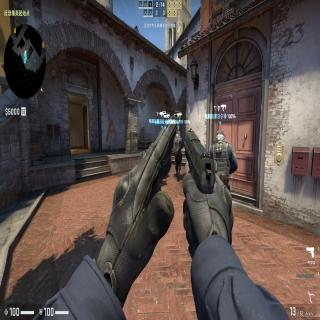CT-Head: (215, 129, 224, 140)
